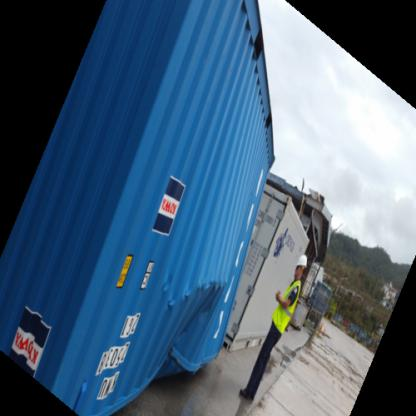Damage: (149, 264, 228, 372)
